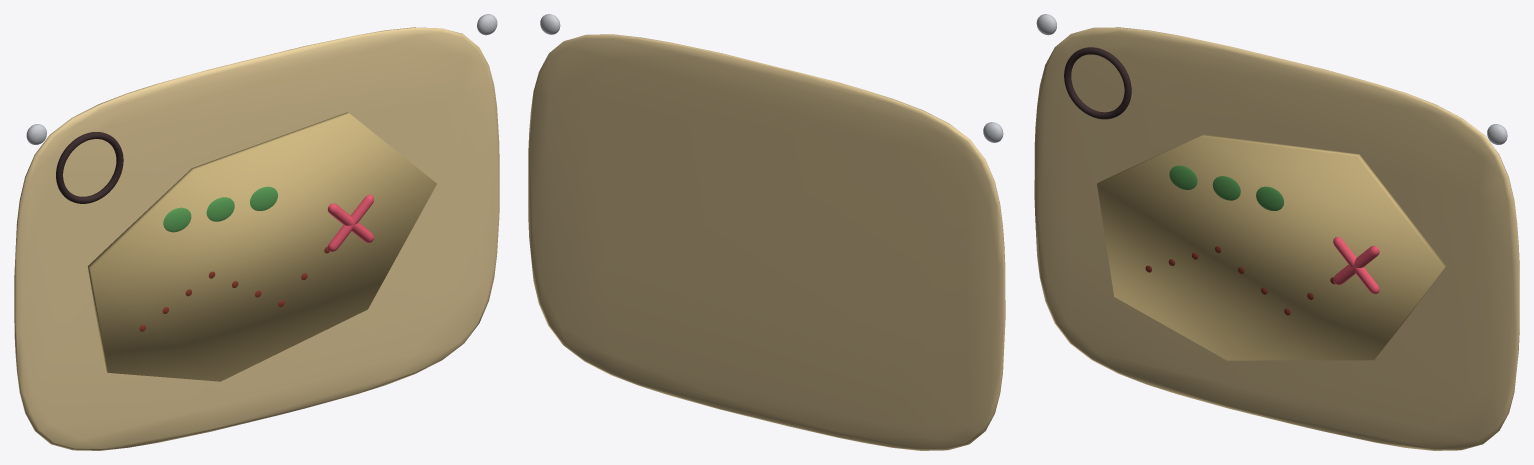
File: deco_mapa_tesoro.glb
The picture shows the model from 3 angles, left to right: view 1: azimuth 30°, elevation 25°; view 2: azimuth 150°, elevation 25°; view 3: azimuth 330°, elevation 25°; orthographic projection.
Parts seen in each view (by area): view 1: mapa.001, isla.001, rosa vientos.001, x a.001, x b.001, palmera mapa 1.001, palmera mapa 0.001, palmera mapa 2.001; view 2: mapa.001; view 3: mapa.001, isla.001, rosa vientos.001, x b.001, x a.001, palmera mapa 0.001, palmera mapa 1.001, palmera mapa 2.001.
Part boxes in pixels (x1,y1,x2,y2): mapa.001: (14,27,499,450); isla.001: (87,112,436,381); rosa vientos.001: (56,132,123,203); x a.001: (328,194,373,251); x b.001: (327,203,373,242); palmera mapa 1.001: (206,197,234,221); palmera mapa 0.001: (163,207,191,232); palmera mapa 2.001: (250,186,277,210); mapa.001: (528,34,1005,450); mapa.001: (1034,27,1519,450); isla.001: (1097,134,1445,360); rosa vientos.001: (1064,47,1131,119); x b.001: (1333,237,1379,293); x a.001: (1333,245,1379,285); palmera mapa 0.001: (1169,165,1197,189); palmera mapa 1.001: (1212,176,1240,200); palmera mapa 2.001: (1256,186,1284,210).
Bounding box in the file's own units: 0.5598 × 0.3996 × 0.0255.
